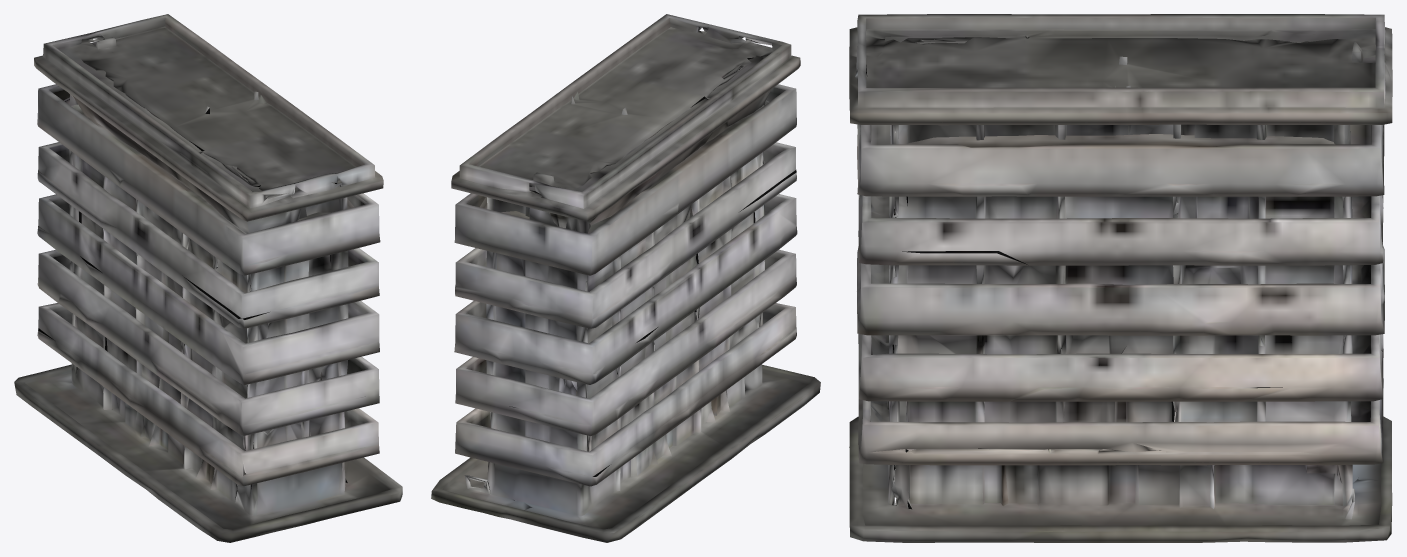
File: bldg_danchi.glb
The picture shows the model from 3 angles, left to right: view 1: azimuth 30°, elevation 25°; view 2: azimuth 150°, elevation 25°; view 3: azimuth 270°, elevation 25°; orthographic projection. The views are drawn at different scales.
Parts seen in each view (by area): view 1: bldg_danchi; view 2: bldg_danchi; view 3: bldg_danchi.
Part boxes in pixels (x1,y1,x2,y2): bldg_danchi: (14,14,402,542); bldg_danchi: (431,14,820,542); bldg_danchi: (849,14,1392,542).
Bounding box in the file's own units: 11.59 × 20 × 22.69.
Materials: 1 (1 with a texture image).
